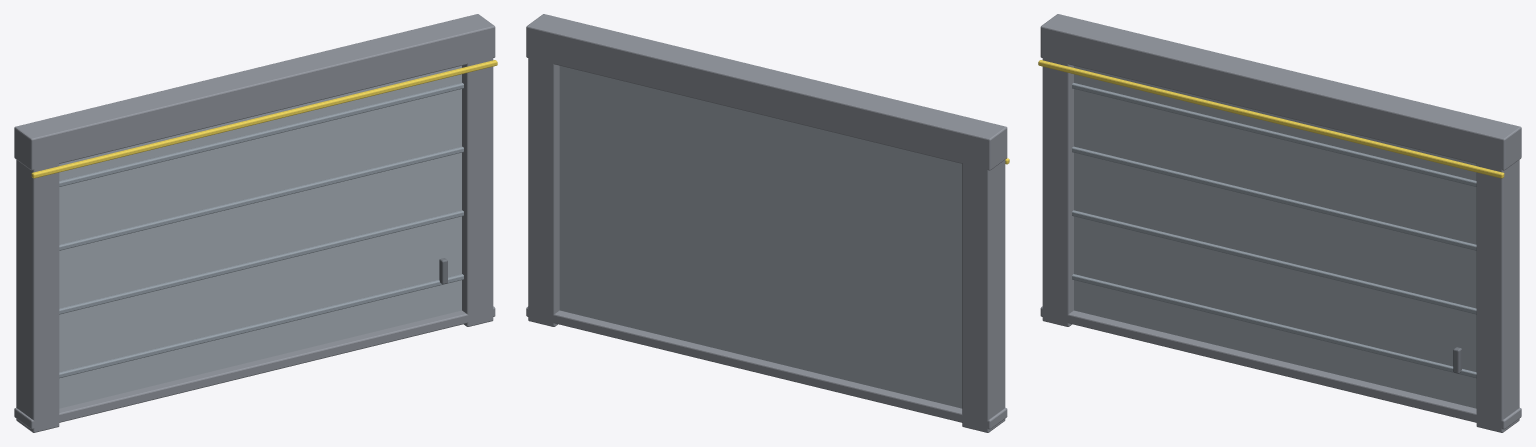
File: ворота_машины.glb
3 views of the same model, side by side, from view 1: azimuth 30°, elevation 25°; view 2: azimuth 150°, elevation 25°; view 3: azimuth 330°, elevation 25° (orthographic).
Parts seen in each view (by area): view 1: AutoGateLeaf_Mesh, ворота_машины; view 2: AutoGateLeaf_Mesh, ворота_машины; view 3: AutoGateLeaf_Mesh, ворота_машины.
Part boxes in pixels (x1=…): AutoGateLeaf_Mesh: x1=59, y1=65, x2=463, y2=408; ворота_машины: x1=14, y1=14, x2=497, y2=432; AutoGateLeaf_Mesh: x1=559, y1=66, x2=962, y2=408; ворота_машины: x1=526, y1=14, x2=1009, y2=432; AutoGateLeaf_Mesh: x1=1072, y1=65, x2=1476, y2=408; ворота_машины: x1=1038, y1=14, x2=1521, y2=432.
Bounding box in the file's own units: 6.1 × 3.7 × 0.45.
